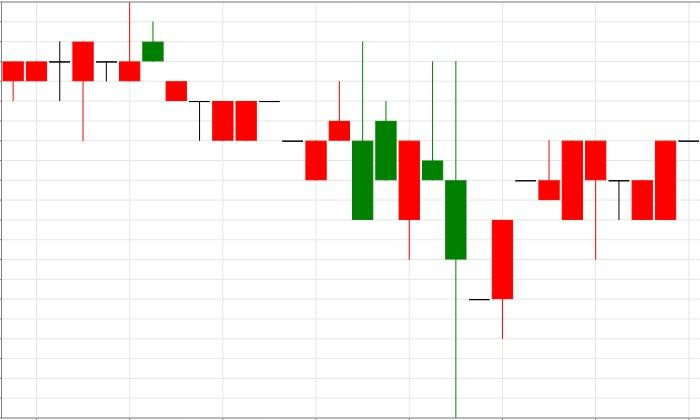shooting_star_fall: (281, 80, 351, 181)
